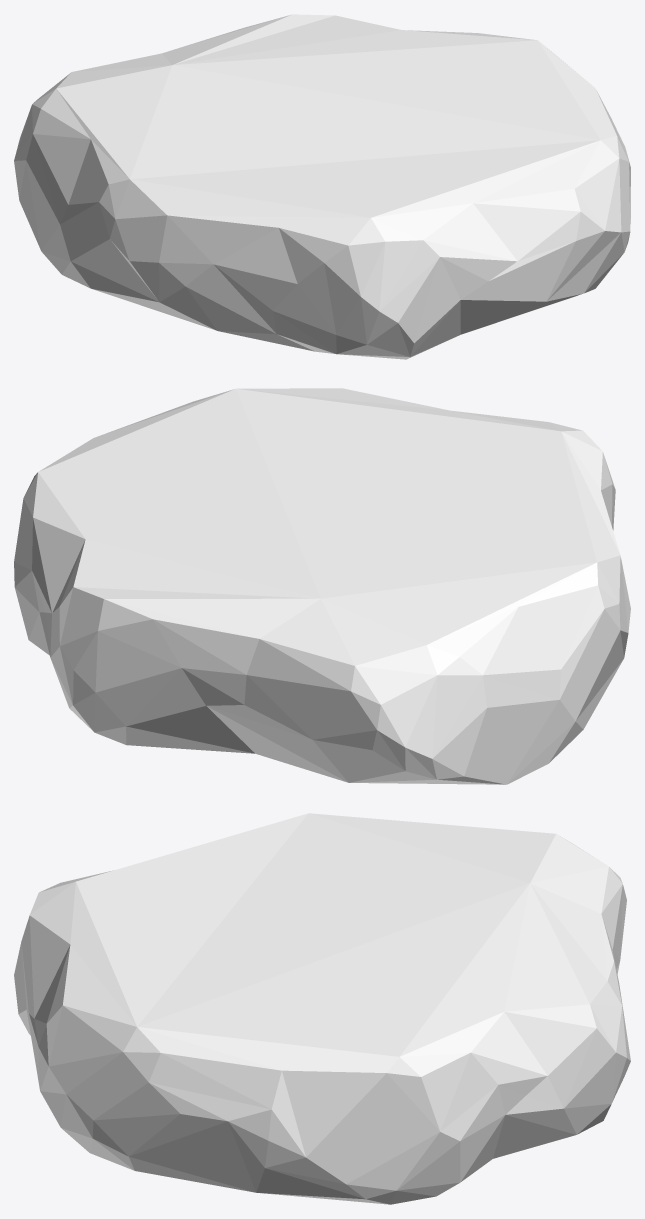
The model's file is Rock 07.FBX.
3 renders of one model, top to bottom at view 1: azimuth 30°, elevation 25°; view 2: azimuth 150°, elevation 25°; view 3: azimuth 270°, elevation 25°, orthographic. The views are drawn at different scales.
Visible parts, largest first — view 1: Box001; view 2: Box001; view 3: Box001.
Part boxes in pixels (bbox=[...]): Box001: bbox=[14, 14, 630, 359]; Box001: bbox=[14, 388, 630, 784]; Box001: bbox=[14, 813, 630, 1204].
Bounding box in the file's own units: 43.61 × 12.21 × 42.63.
